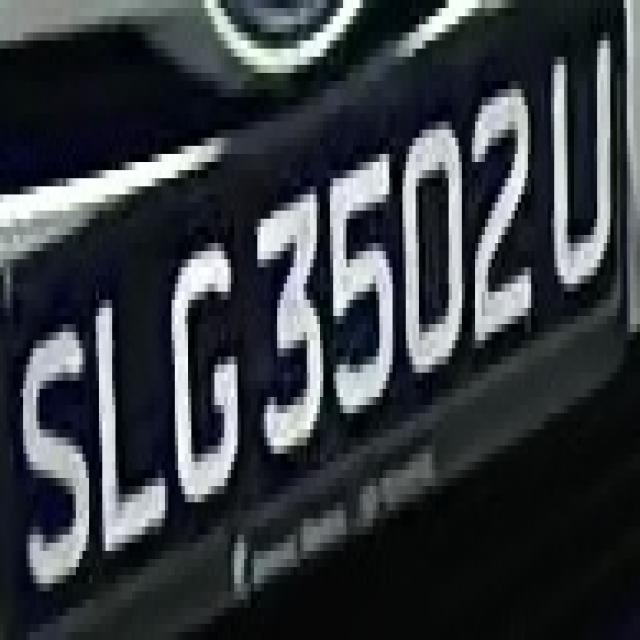0: (399, 105, 472, 413)
2: (459, 65, 541, 389)
3: (251, 186, 333, 470)
5: (320, 154, 409, 437)
G: (168, 235, 248, 551)
L: (96, 276, 168, 567)
S: (13, 291, 89, 640)
U: (538, 24, 617, 308)
